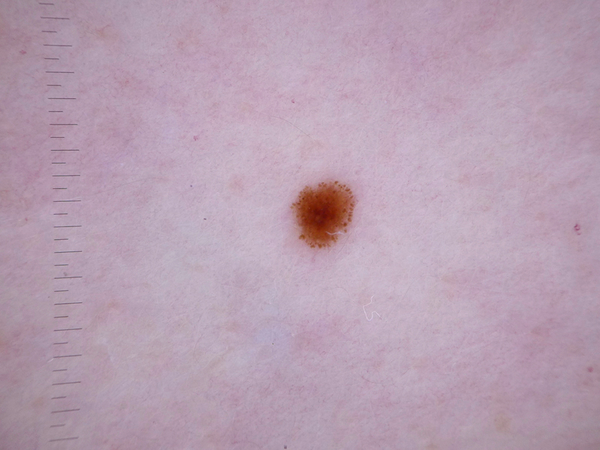Detected Lesion: (286, 180, 356, 253)
